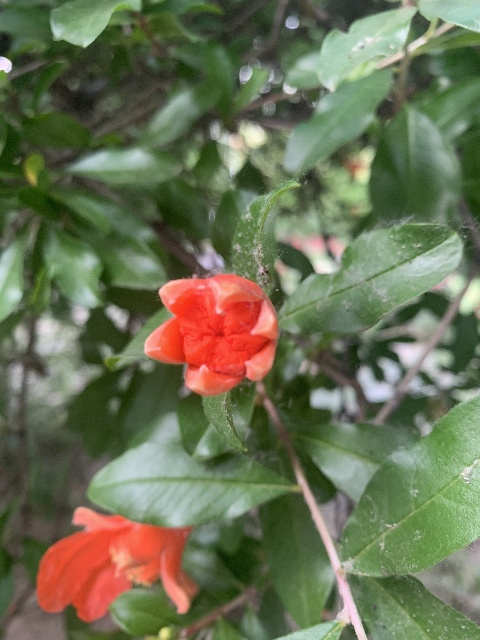flower: (36, 506, 199, 623), (144, 273, 278, 395)
